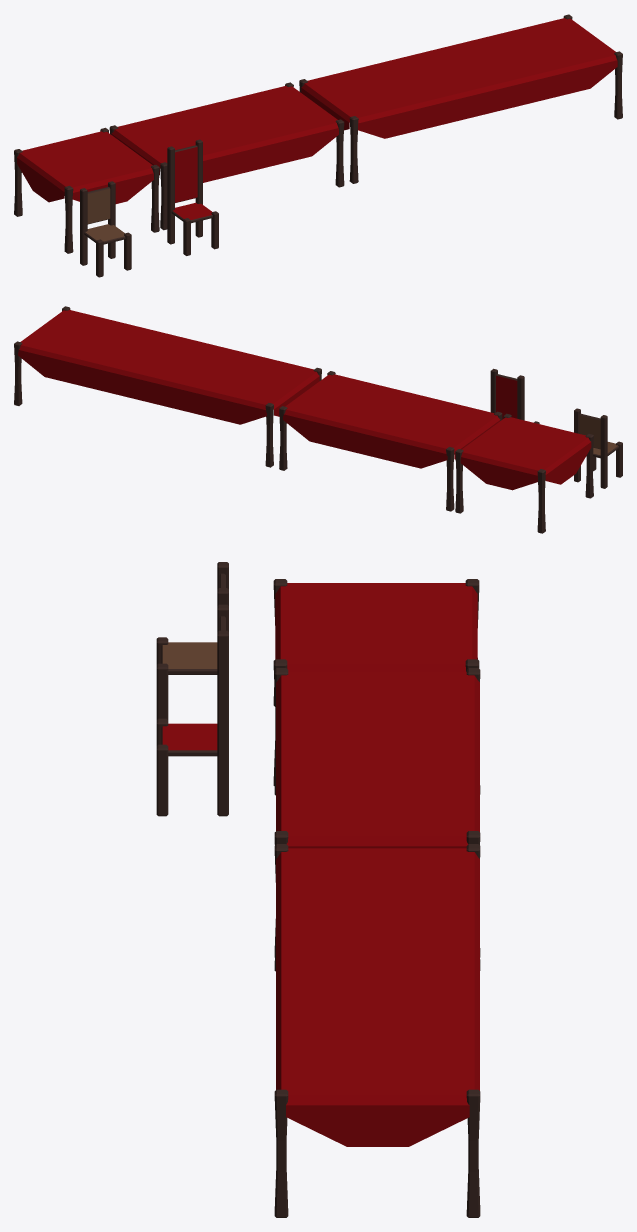
The model's file is TableChairs.fbx.
The picture shows the model from 3 angles, top to bottom: view 1: azimuth 30°, elevation 25°; view 2: azimuth 150°, elevation 25°; view 3: azimuth 270°, elevation 25°; orthographic projection. The views are drawn at different scales.
Visible parts, largest first — view 1: TableCloth_5x15, TableCloth_5x10, TableCloth_5x5, ChairV2, ChairV1, TableV1_5x5, TableV1_5x15, TableV1_5x10; view 2: TableCloth_5x15, TableCloth_5x10, TableCloth_5x5, ChairV1, ChairV2, TableV1_5x5, TableV1_5x15, TableV1_5x10; view 3: TableCloth_5x15, TableCloth_5x10, TableCloth_5x5, ChairV2, TableV1_5x15, ChairV1.
Boxes of the visible parts, x1=… form: TableCloth_5x15: x1=301, y1=18, x2=617, y2=138; TableCloth_5x10: x1=111, y1=86, x2=338, y2=182; TableCloth_5x5: x1=17, y1=131, x2=153, y2=203; ChairV2: x1=167, y1=139, x2=218, y2=255; ChairV1: x1=80, y1=181, x2=131, y2=277; TableV1_5x5: x1=14, y1=127, x2=159, y2=253; TableV1_5x15: x1=299, y1=14, x2=622, y2=183; TableV1_5x10: x1=109, y1=82, x2=344, y2=230; TableCloth_5x15: x1=18, y1=309, x2=319, y2=424; TableCloth_5x10: x1=283, y1=374, x2=500, y2=468; TableCloth_5x5: x1=460, y1=417, x2=591, y2=490; ChairV1: x1=574, y1=408, x2=622, y2=488; ChairV2: x1=490, y1=368, x2=539, y2=423; TableV1_5x5: x1=455, y1=413, x2=593, y2=533; TableV1_5x15: x1=14, y1=306, x2=321, y2=467; TableV1_5x10: x1=279, y1=371, x2=502, y2=511; TableCloth_5x15: x1=276, y1=848, x2=479, y2=1146; TableCloth_5x10: x1=276, y1=671, x2=479, y2=848; TableCloth_5x5: x1=275, y1=583, x2=477, y2=671; ChairV2: x1=156, y1=604, x2=228, y2=816; TableV1_5x15: x1=274, y1=844, x2=480, y2=1217; ChairV1: x1=156, y1=562, x2=228, y2=719.
Bounding box in the file's own units: 11449 × 1882 × 3034.
